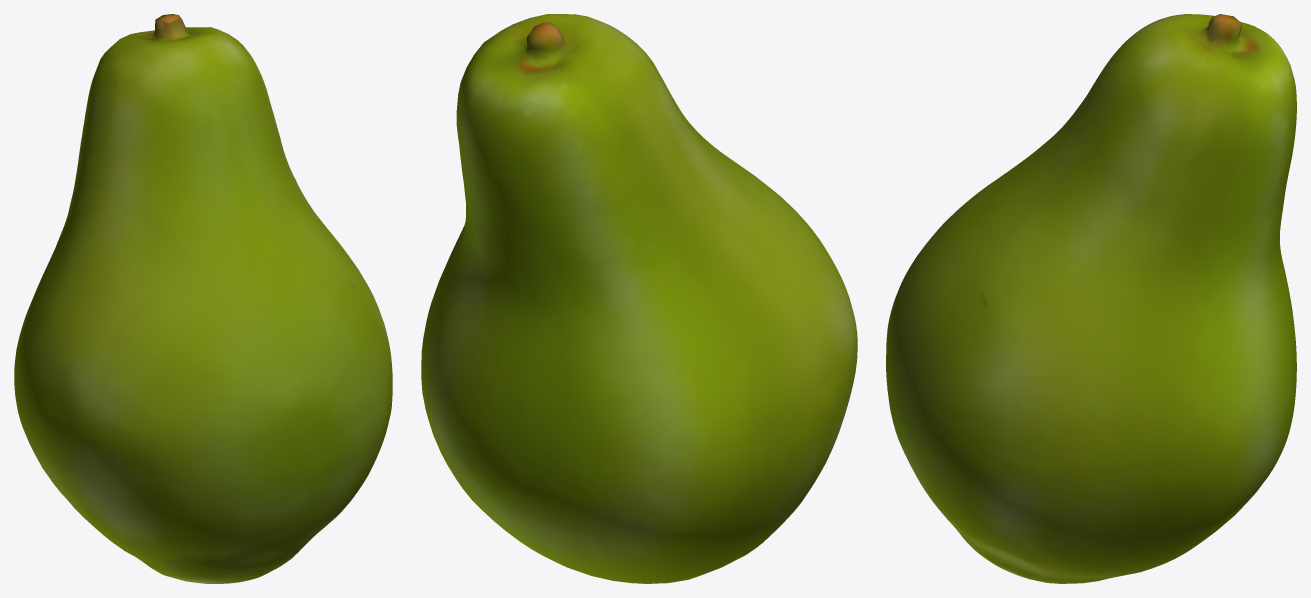
Rendered from textured_simplified.obj.
3 views of the same model, side by side, from view 1: azimuth 30°, elevation 25°; view 2: azimuth 150°, elevation 25°; view 3: azimuth 270°, elevation 25° (orthographic). The views are drawn at different scales.
Bounding box in the file's own units: 0.0665 × 0.1004 × 0.0657.
1 material, 1 textured.
